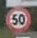limite 50: (4, 5, 31, 32)
